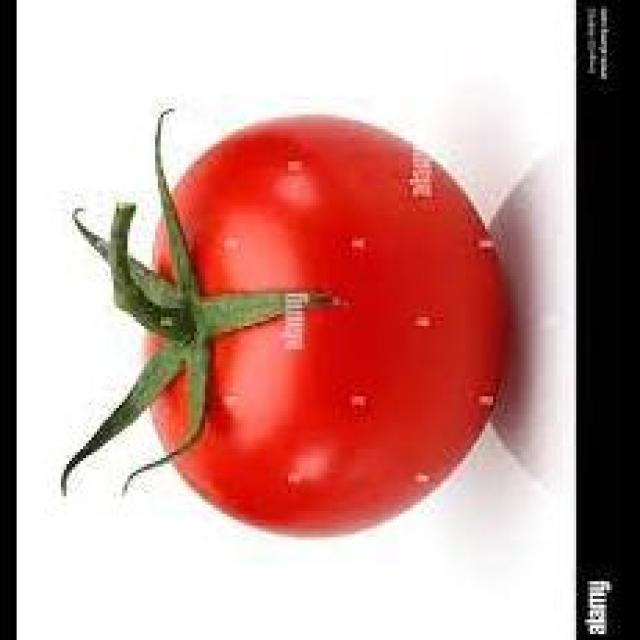Tomato: (145, 102, 514, 548)
